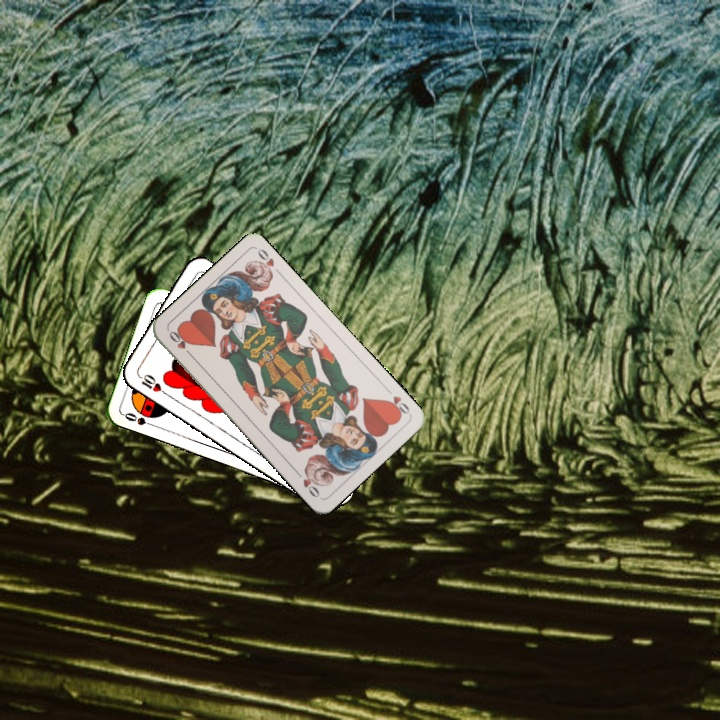H10: (133, 370, 170, 398)
HO: (165, 327, 196, 360), (381, 392, 413, 420)
SO: (120, 409, 159, 430)
